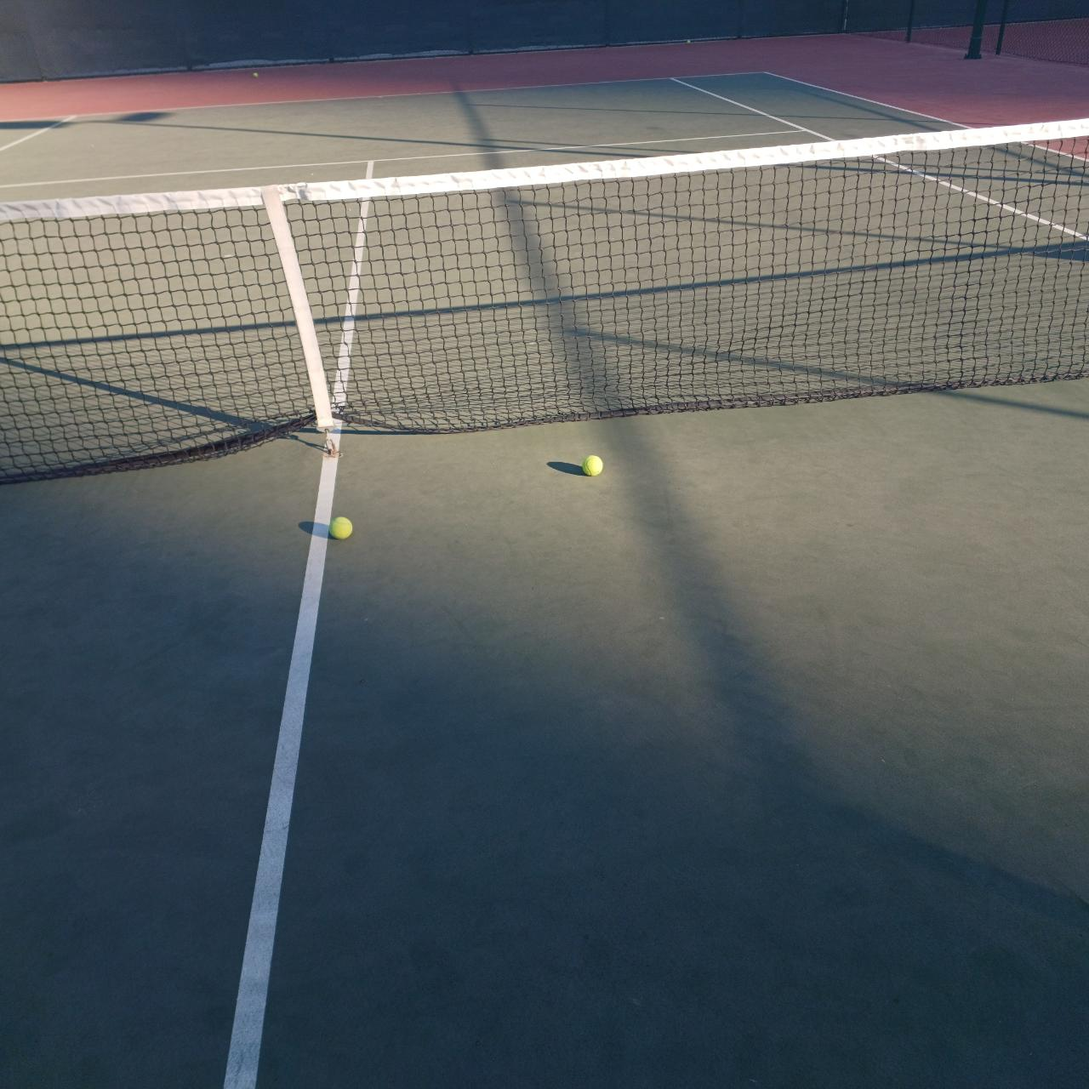tennis-ball: (327, 513, 354, 540), (581, 452, 604, 476), (253, 73, 258, 77)
